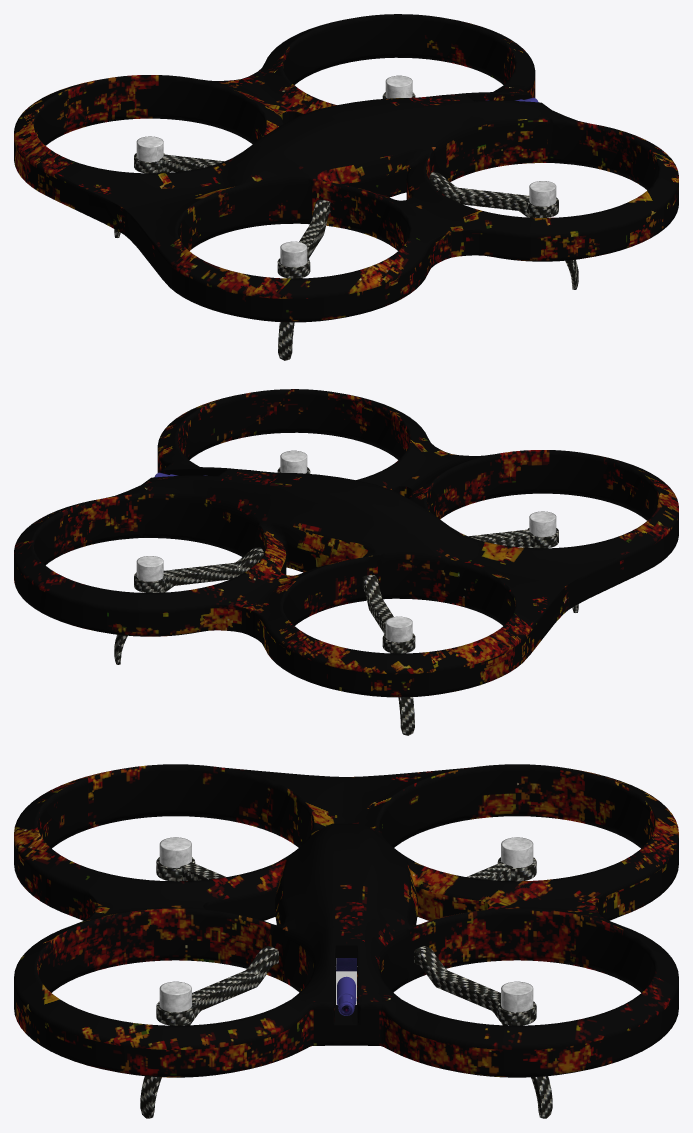
The model's file is Quadrotor1.FBX.
The picture shows the model from 3 angles, top to bottom: view 1: azimuth 30°, elevation 25°; view 2: azimuth 150°, elevation 25°; view 3: azimuth 270°, elevation 25°; orthographic projection. The views are drawn at different scales.
Parts seen in each view (by area): view 1: Quadrotor1.001; view 2: Quadrotor1.001; view 3: Quadrotor1.001.
Part boxes in pixels (x1,y1,x2,y2): Quadrotor1.001: (14,14,678,360); Quadrotor1.001: (14,389,678,735); Quadrotor1.001: (14,764,678,1118).
Size of the model in its own units: 98.17 by 29.3 by 98.17.
Materials: 3 (3 with a texture image).
